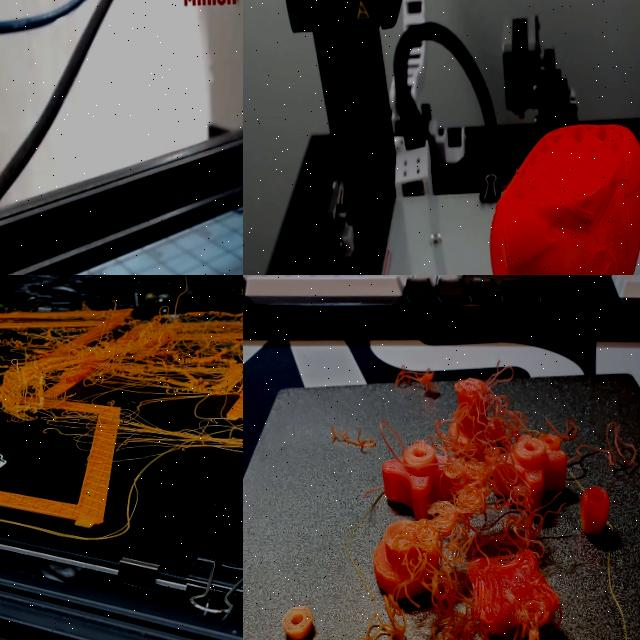spaghetti: (0, 308, 243, 455), (407, 419, 509, 640), (504, 397, 568, 556), (577, 413, 640, 476), (323, 411, 383, 471), (383, 349, 443, 406), (458, 358, 526, 408), (357, 583, 407, 640)
